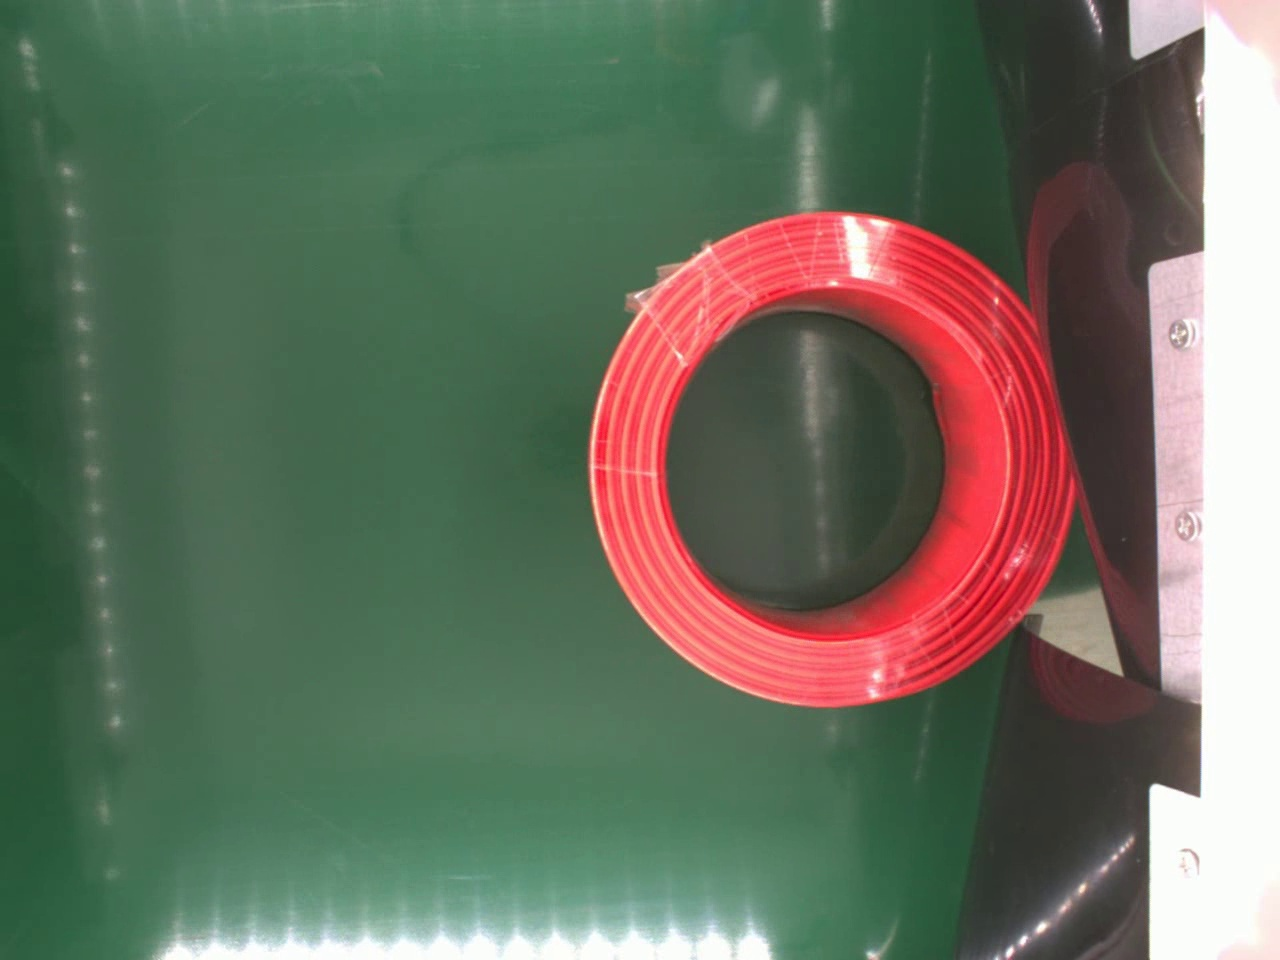red: (585, 204, 1072, 710)
